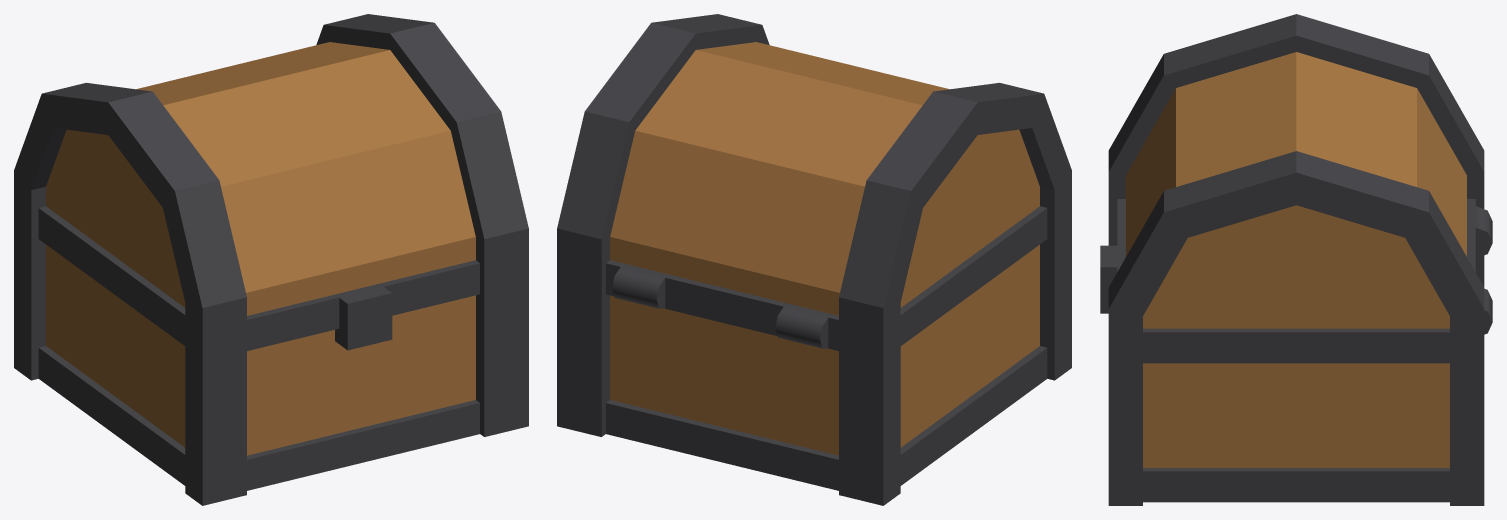
Rendered from wooden_chest.fbx.
3 renders of one model, left to right at view 1: azimuth 30°, elevation 25°; view 2: azimuth 150°, elevation 25°; view 3: azimuth 270°, elevation 25°, orthographic.
Visible parts, largest first — view 1: chest_top, chest.003; view 2: chest_top, chest.003; view 3: chest_top, chest.003.
Part boxes in pixels (box(x1,y1,x2,y2)): chest_top: box(14, 14, 528, 350); chest.003: box(14, 213, 528, 505); chest_top: box(557, 14, 1071, 350); chest.003: box(557, 213, 1071, 505); chest_top: box(1100, 14, 1484, 351); chest.003: box(1108, 206, 1492, 505).
Bounding box in the file's own units: 110 × 108 × 115.
